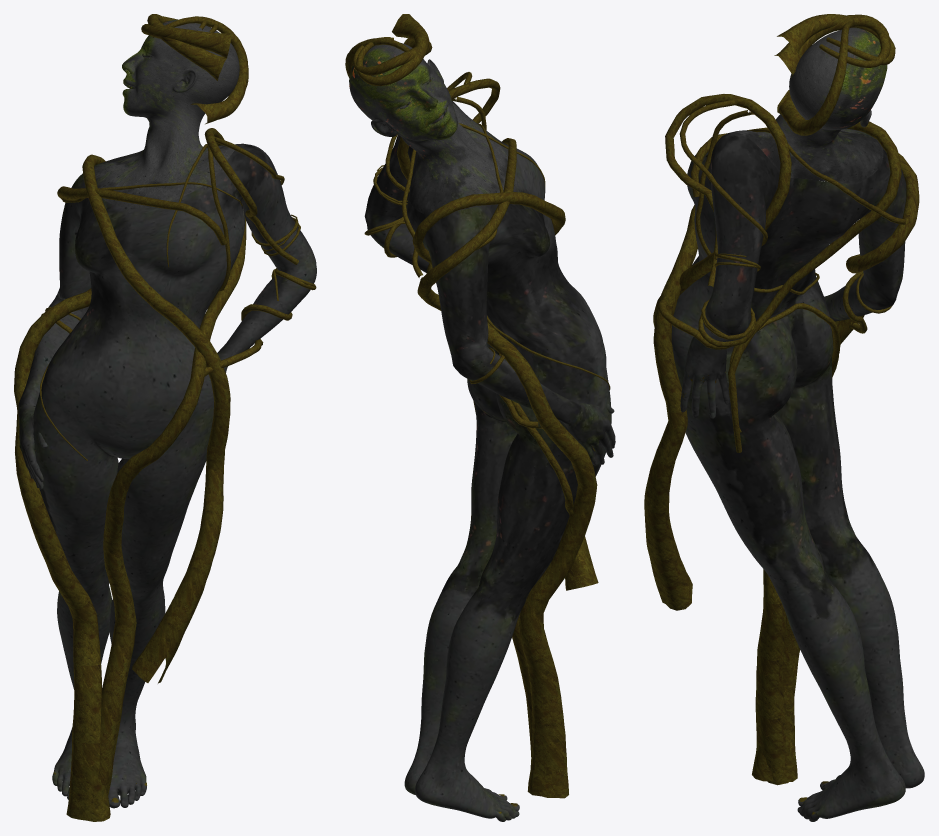
The model's file is statue-3.glb.
3 views of the same model, side by side, from view 1: azimuth 30°, elevation 25°; view 2: azimuth 150°, elevation 25°; view 3: azimuth 270°, elevation 25° (orthographic). The views are drawn at different scales.
Visible parts, largest first — view 1: Statue_3; view 2: Statue_3; view 3: Statue_3.
Boxes of the visible parts, box(x1,y1,x2,y2) form: Statue_3: box(14, 14, 316, 821); Statue_3: box(345, 14, 615, 821); Statue_3: box(644, 14, 924, 821).
Bounding box in the file's own units: 0.5831 × 1.58 × 0.4827.
Materials: 3 (3 with a texture image).
